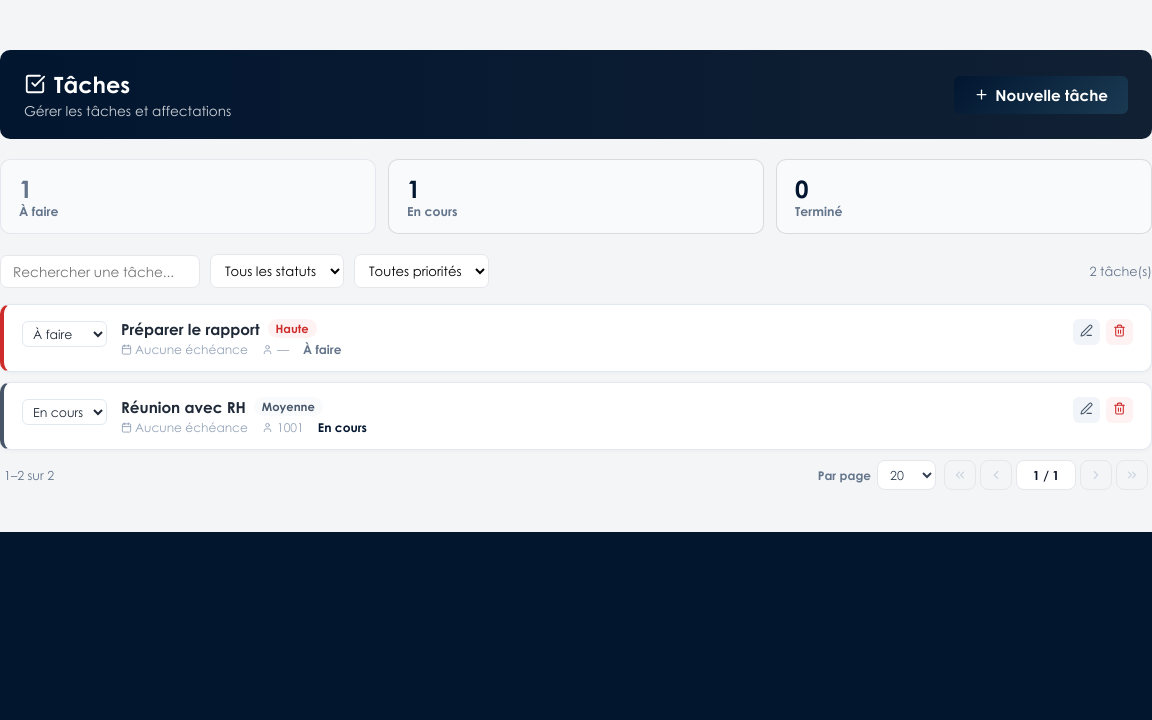
TasksPage › opens creation form on "Nouvelle tâche" click
Click the button "Nouvelle tâche".
click(1041, 94)  # box [954,76,1128,114]
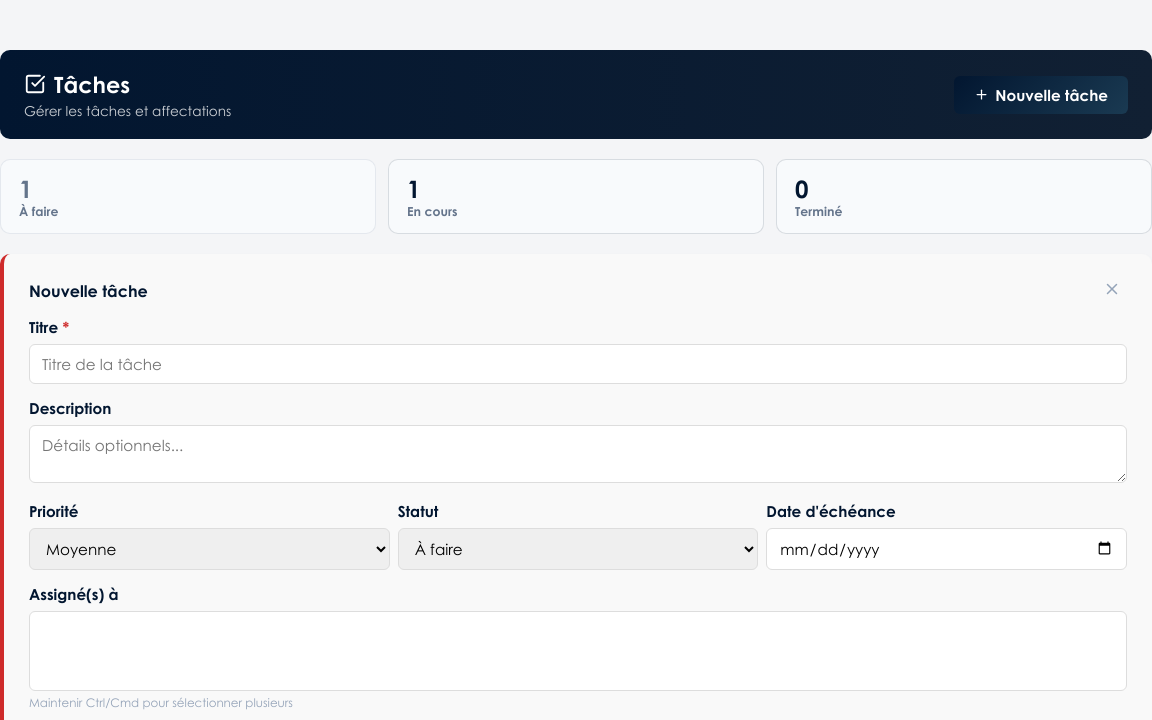
Expected: the field with placeholder "Titre de la tâche" is shown, [29,344,1127,384]
